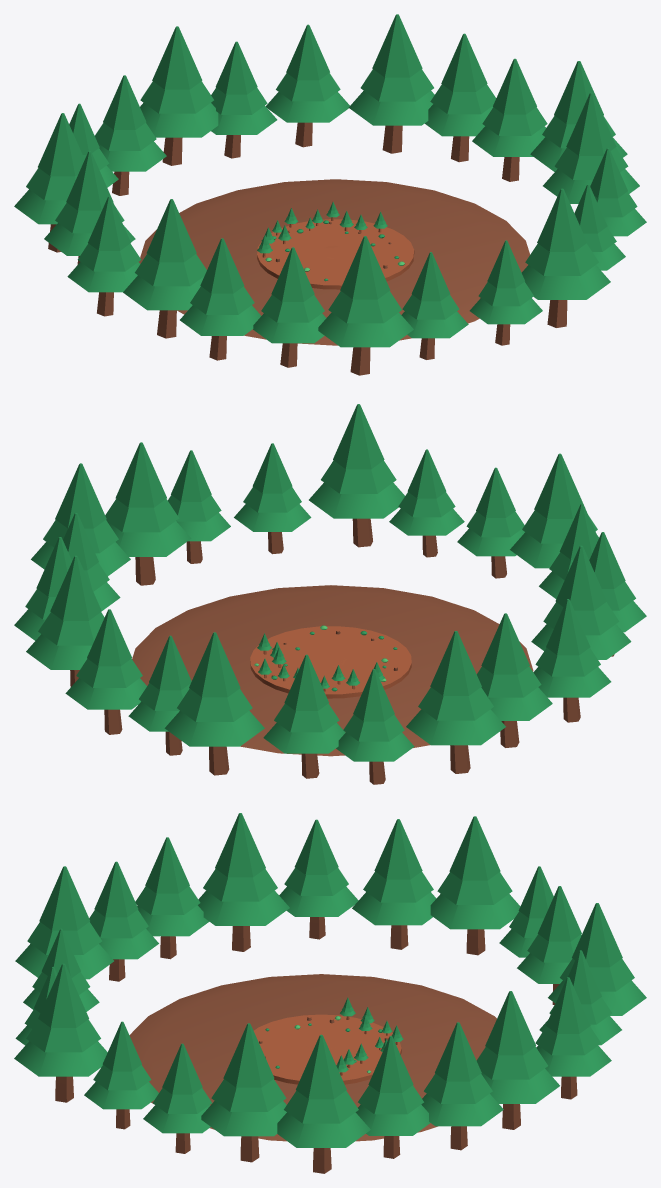
File: flicker_stag.glb
3 views of the same model, one above another, from view 1: azimuth 30°, elevation 25°; view 2: azimuth 150°, elevation 25°; view 3: azimuth 270°, elevation 25° (orthographic). The views are drawn at different scales.
Visible parts, largest first — view 1: FlickerStagGround; view 2: FlickerStagGround; view 3: FlickerStagGround.
Boxes of the visible parts, x1,y1,x2,y2 form: FlickerStagGround: (14, 14, 646, 375); FlickerStagGround: (14, 404, 646, 784); FlickerStagGround: (14, 813, 646, 1173).
Bounding box in the file's own units: 47.48 × 11.9 × 47.41.
1 material, 1 textured.
